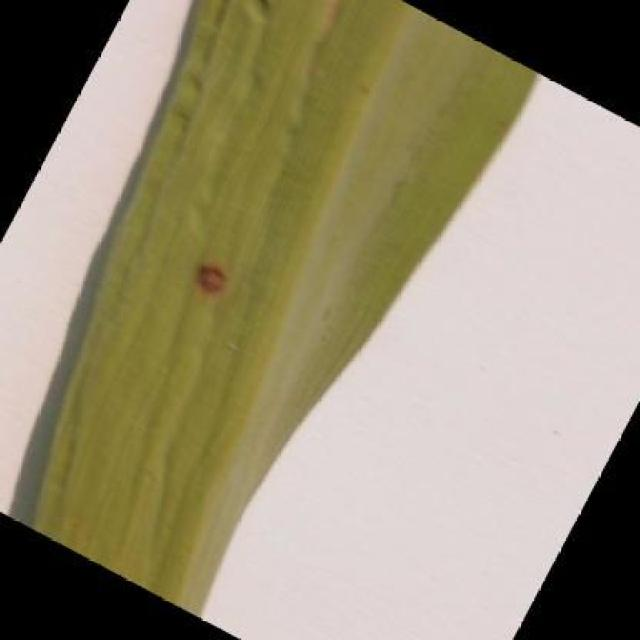Brown_Spot: (277, 0, 398, 60), (183, 0, 282, 57)
Leaf_Blast: (163, 240, 262, 332)
